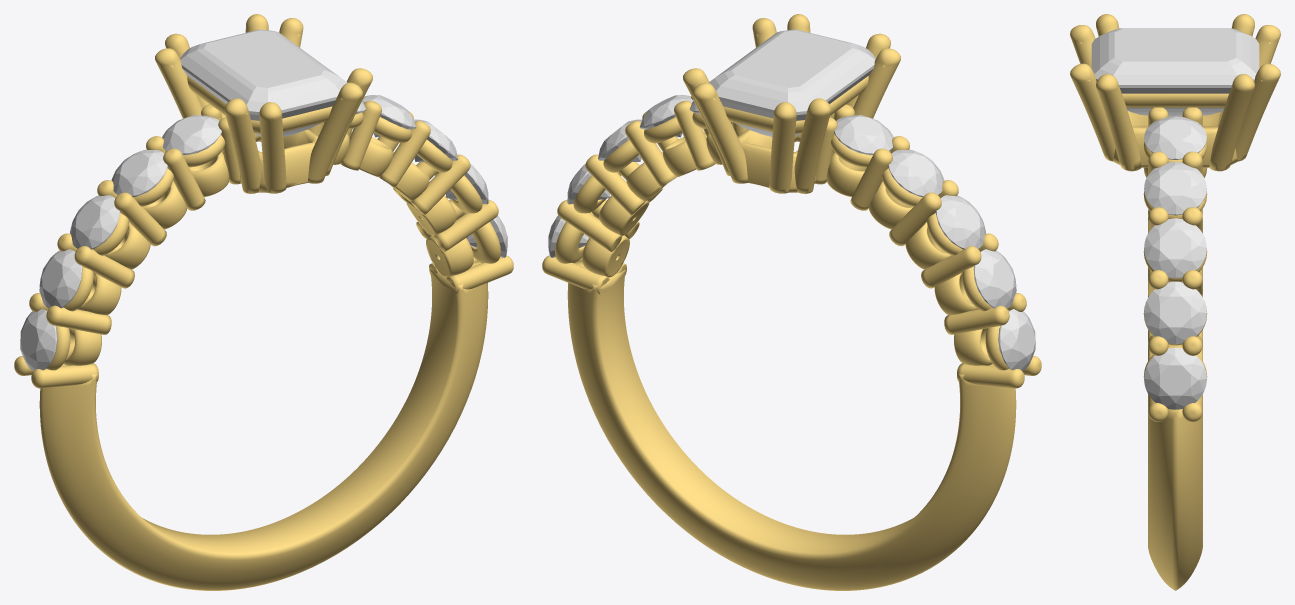
File: diamond-emerald-yellowgold-8prong-knifeedge-11stone.glb
3 renders of one model, left to right at view 1: azimuth 30°, elevation 25°; view 2: azimuth 150°, elevation 25°; view 3: azimuth 270°, elevation 25°, orthographic.
Parts seen in each view (by area): view 1: metal.001, stone, side.004, side.003, side.005, side, side.006, side.010; view 2: metal.001, stone, side.004, side.003, side.005, side, side.006, side.010; view 3: metal.001, stone, side.008, side.007, side.009, side.010, side.011.
Boxes of the visible parts, <box> form: metal.001: <box>14,14,513,590</box>; stone: <box>180,29,347,136</box>; side.004: <box>70,195,119,249</box>; side.003: <box>39,249,82,308</box>; side.005: <box>111,149,167,196</box>; side: <box>20,309,57,370</box>; side.006: <box>162,115,221,155</box>; side.010: <box>362,95,415,137</box>; metal.001: <box>542,14,1041,590</box>; stone: <box>708,29,875,136</box>; side.004: <box>936,195,985,249</box>; side.003: <box>973,249,1016,308</box>; side.005: <box>888,149,944,196</box>; side: <box>998,309,1035,370</box>; side.006: <box>834,115,893,155</box>; side.010: <box>640,95,693,137</box>; metal.001: <box>1070,14,1280,590</box>; stone: <box>1091,28,1259,116</box>; side.008: <box>1144,281,1206,344</box>; side.007: <box>1144,347,1206,409</box>; side.009: <box>1144,218,1206,278</box>; side.010: <box>1144,161,1206,215</box>; side.011: <box>1144,116,1206,159</box>.
Bounding box in the file's own units: 21.87 × 22.94 × 8.4.
